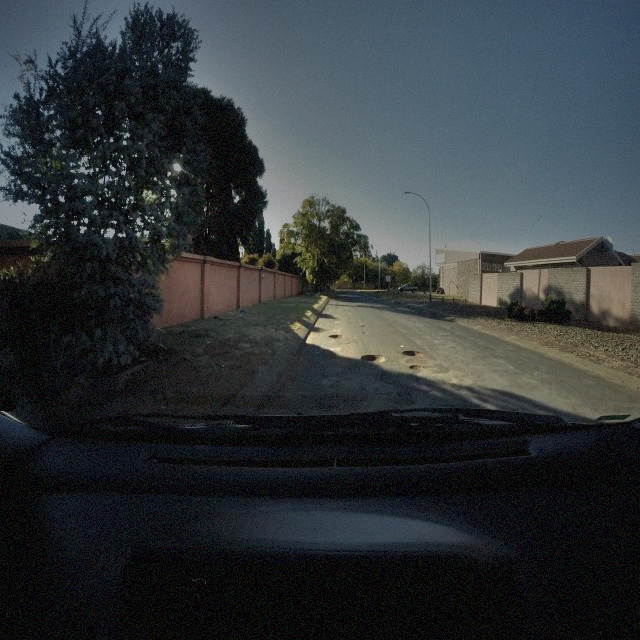pothole: (359, 352, 386, 364), (401, 348, 425, 359), (408, 363, 427, 374), (327, 332, 345, 342), (360, 323, 368, 328), (361, 330, 367, 335)
